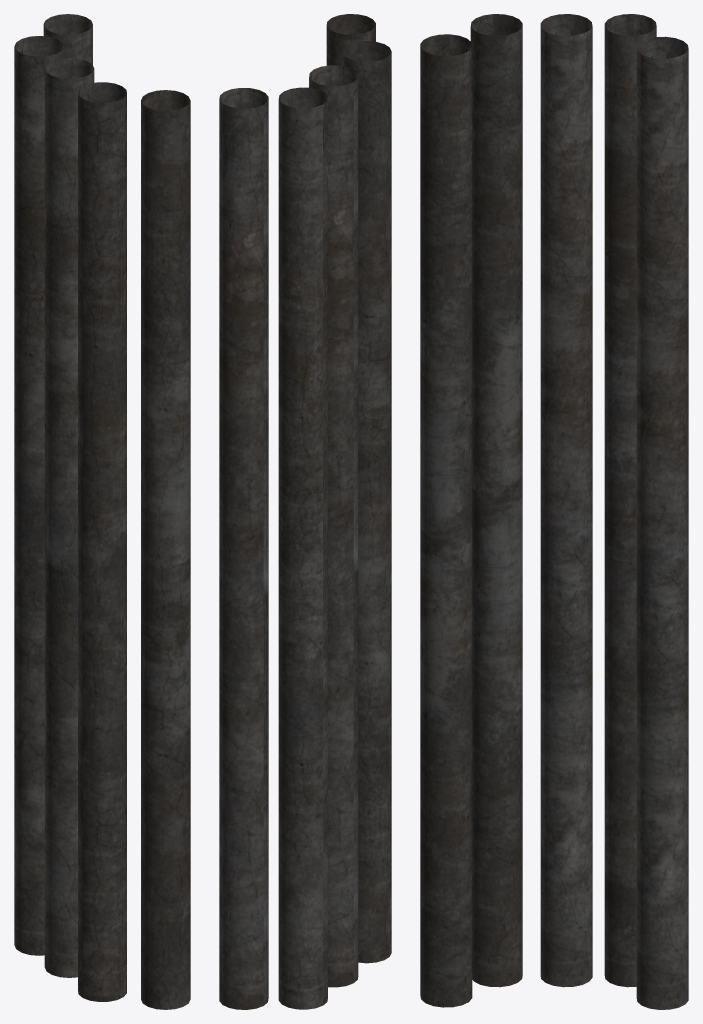
Rendered from Utility_Pipes_B.glb.
3 renders of one model, left to right at view 1: azimuth 30°, elevation 25°; view 2: azimuth 150°, elevation 25°; view 3: azimuth 270°, elevation 25°, orthographic. The views are drawn at different scales.
Parts seen in each view (by area): view 1: Utility_Pipes_B; view 2: Utility_Pipes_B; view 3: Utility_Pipes_B.
Boxes of the visible parts, x1,y1,x2,y2 form: Utility_Pipes_B: (14, 14, 190, 1009); Utility_Pipes_B: (219, 14, 391, 1009); Utility_Pipes_B: (420, 14, 688, 1009).
Bounding box in the file's own units: 0.3029 × 3 × 0.767.
Materials: 1 (1 with a texture image).
